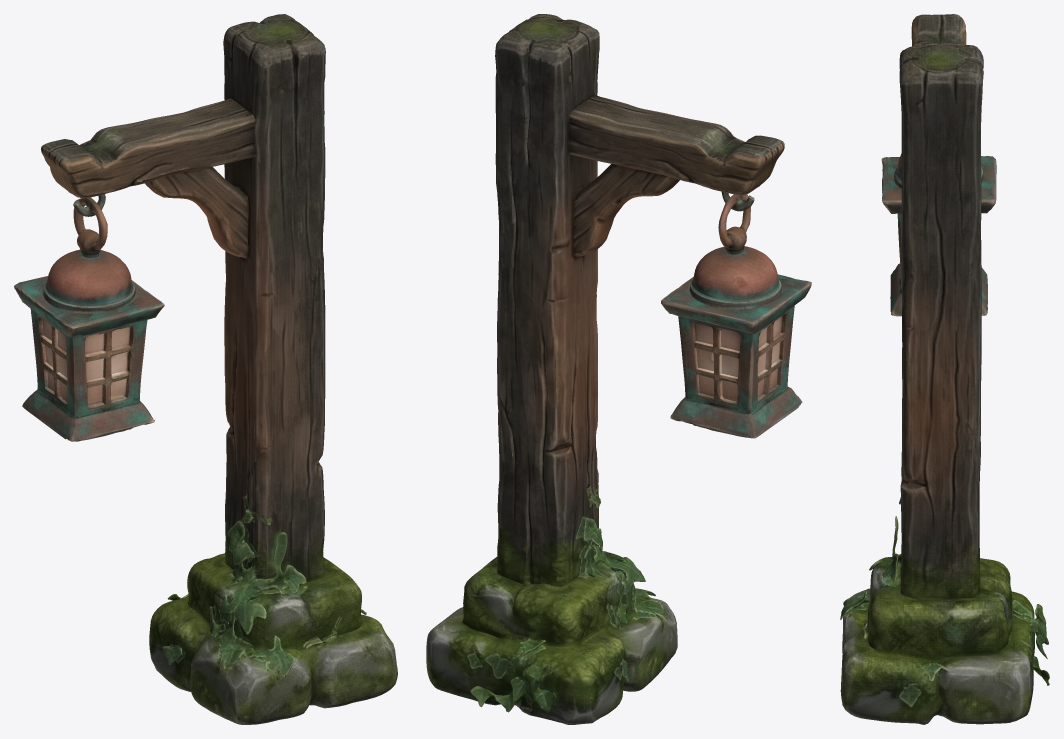
The model's file is stormwood_lantern_post.glb.
The picture shows the model from 3 angles, left to right: view 1: azimuth 30°, elevation 25°; view 2: azimuth 150°, elevation 25°; view 3: azimuth 270°, elevation 25°; orthographic projection. The views are drawn at different scales.
Visible parts, largest first — view 1: Mesh_0; view 2: Mesh_0; view 3: Mesh_0.
Part boxes in pixels (bbox=[...]): Mesh_0: bbox=[14, 14, 397, 724]; Mesh_0: bbox=[426, 14, 811, 724]; Mesh_0: bbox=[840, 14, 1049, 724].
Bounding box in the file's own units: 0.9884 × 1.9 × 0.5735.
1 material, 1 textured.
